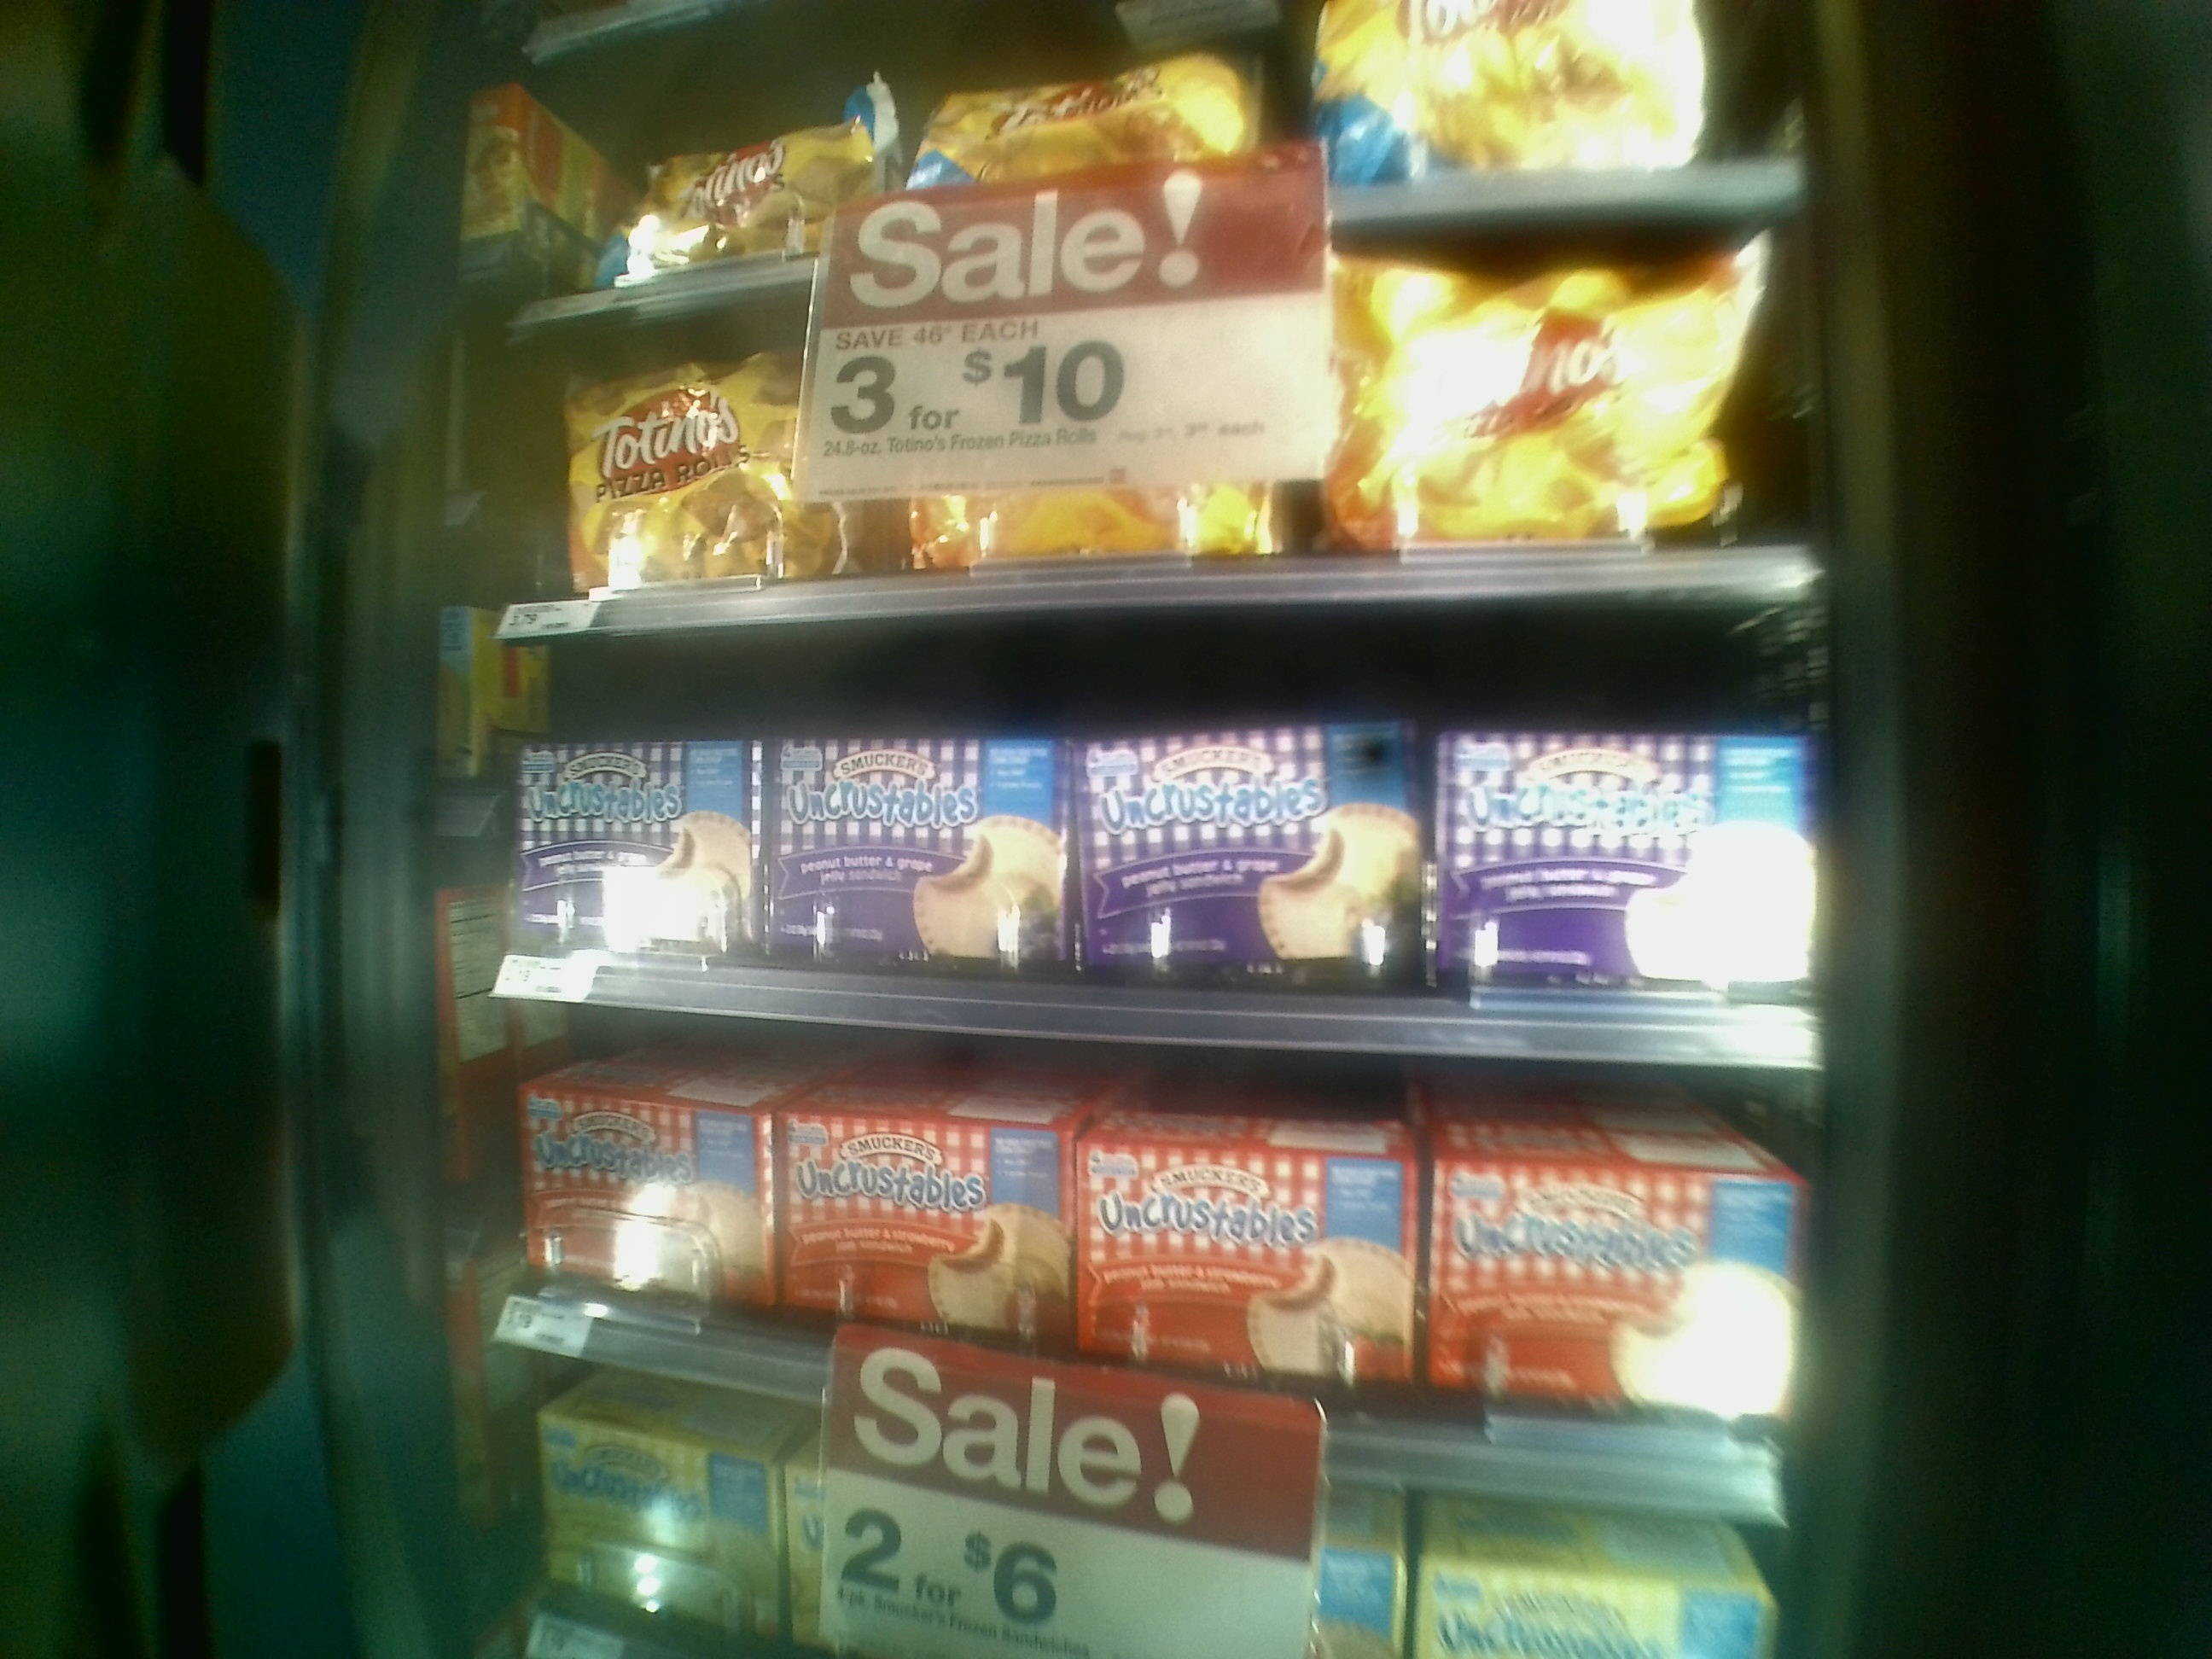shelf: (449, 1044, 1825, 1500), (460, 622, 1829, 1044), (456, 251, 1810, 594), (472, 279, 1797, 455)
